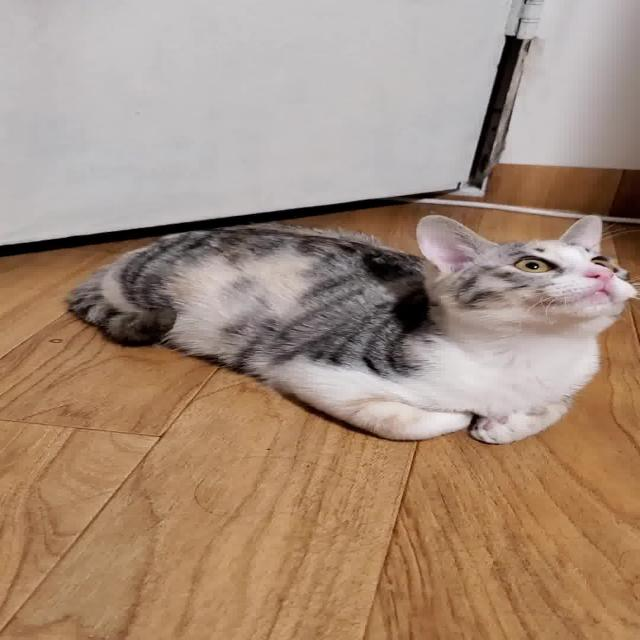cat: (50, 192, 640, 459)
